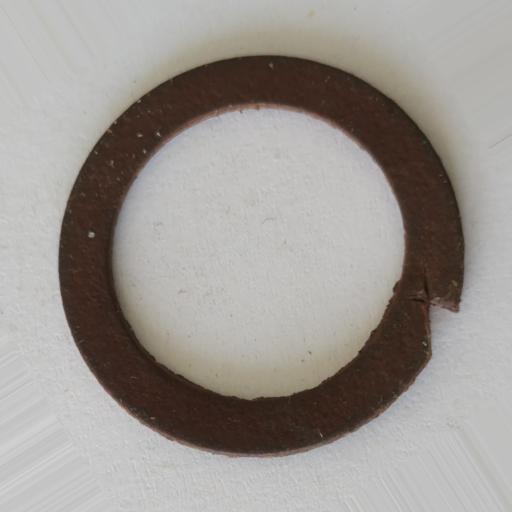defect: (409, 273, 459, 358)
